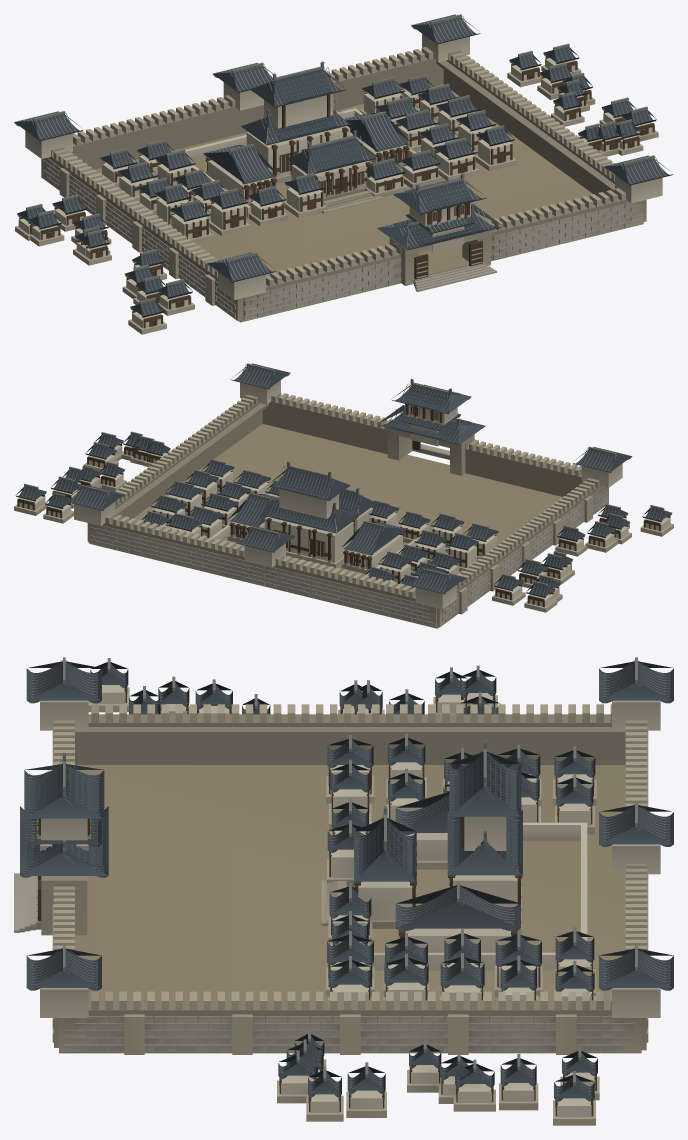
File: city-v2.glb
The picture shows the model from 3 angles, top to bottom: view 1: azimuth 30°, elevation 25°; view 2: azimuth 150°, elevation 25°; view 3: azimuth 270°, elevation 25°; orthographic projection. The views are drawn at different scales.
Visible parts, largest first — view 1: City Warm limestone.001, City Slate tile.001, City Lime plaster.001, City Courtyard earth.001, Warm limestone detail, City Ridge pottery.001, City Dark timber.001, Slate tile detail, Dark timber detail; view 2: City Warm limestone.001, City Slate tile.001, City Courtyard earth.001, City Lime plaster.001, Warm limestone detail, City Ridge pottery.001, City Dark timber.001, Slate tile detail, Dark timber detail; view 3: City Courtyard earth.001, City Slate tile.001, City Warm limestone.001, City Lime plaster.001, Warm limestone detail, City Ridge pottery.001, Slate tile detail, City Dark timber.001, Dark timber detail.
Part boxes in pixels (x1=…): City Warm limestone.001: x1=15, y1=47, x2=658, y2=334; City Slate tile.001: x1=14, y1=14, x2=673, y2=317; City Lime plaster.001: x1=18, y1=33, x2=662, y2=328; City Courtyard earth.001: x1=95, y1=84, x2=643, y2=322; Warm limestone detail: x1=43, y1=157, x2=643, y2=320; City Ridge pottery.001: x1=19, y1=14, x2=667, y2=315; City Dark timber.001: x1=19, y1=56, x2=654, y2=328; Slate tile detail: x1=269, y1=69, x2=486, y2=245; Dark timber detail: x1=205, y1=125, x2=482, y2=279; City Warm limestone.001: x1=14, y1=391, x2=673, y2=627; City Slate tile.001: x1=15, y1=363, x2=672, y2=597; City Courtyard earth.001: x1=91, y1=424, x2=562, y2=628; City Lime plaster.001: x1=19, y1=380, x2=670, y2=609; Warm limestone detail: x1=90, y1=414, x2=607, y2=626; City Ridge pottery.001: x1=21, y1=363, x2=664, y2=595; City Dark timber.001: x1=17, y1=443, x2=670, y2=606; Slate tile detail: x1=273, y1=384, x2=471, y2=529; Dark timber detail: x1=229, y1=404, x2=442, y2=568; City Courtyard earth.001: x1=59, y1=765, x2=641, y2=1053; City Slate tile.001: x1=20, y1=661, x2=673, y2=1101; City Warm limestone.001: x1=41, y1=687, x2=647, y2=1125; City Lime plaster.001: x1=40, y1=685, x2=660, y2=1117; Warm limestone detail: x1=14, y1=730, x2=648, y2=1051; City Ridge pottery.001: x1=20, y1=657, x2=673, y2=1096; Slate tile detail: x1=20, y1=752, x2=522, y2=874; City Dark timber.001: x1=91, y1=687, x2=596, y2=1116; Dark timber detail: x1=38, y1=818, x2=522, y2=938.
Bounding box in the file's own units: 18.92 × 3.04 × 12.23.
